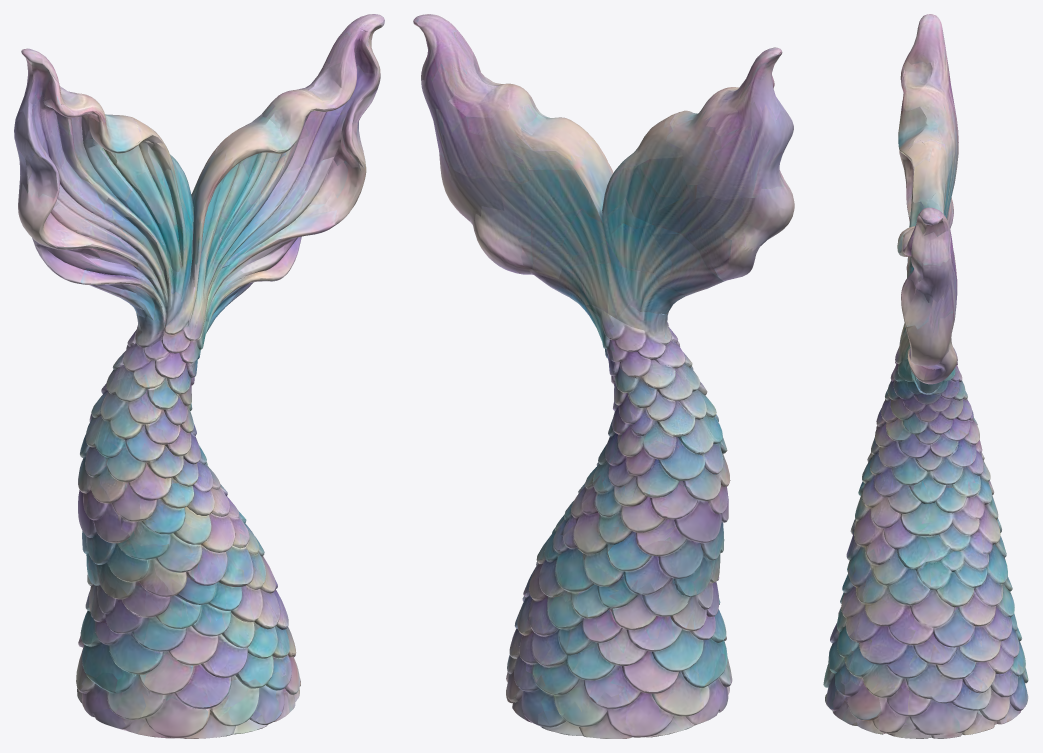
3 renders of one model, left to right at view 1: azimuth 30°, elevation 25°; view 2: azimuth 150°, elevation 25°; view 3: azimuth 270°, elevation 25°, orthographic. The views are drawn at different scales.
Parts seen in each view (by area): view 1: output_unwrapped; view 2: output_unwrapped; view 3: output_unwrapped.
Boxes of the visible parts, left/top/right/bottom form: output_unwrapped: left=14, top=14, right=384, bottom=738; output_unwrapped: left=413, top=14, right=794, bottom=738; output_unwrapped: left=823, top=14, right=1028, bottom=738.
Bounding box in the file's own units: 1.08 × 1.9 × 0.5778.
Materials: 1 (1 with a texture image).
